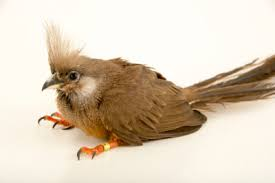target: (27, 16, 275, 152)
